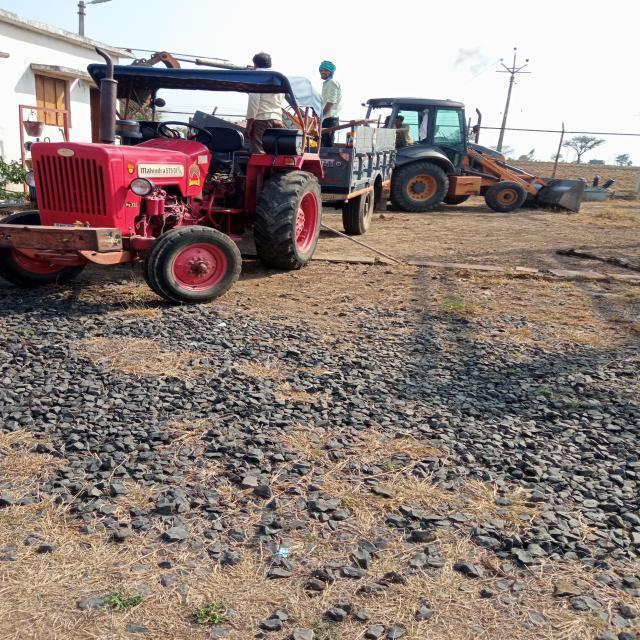tractor_front: (0, 43, 401, 311)
